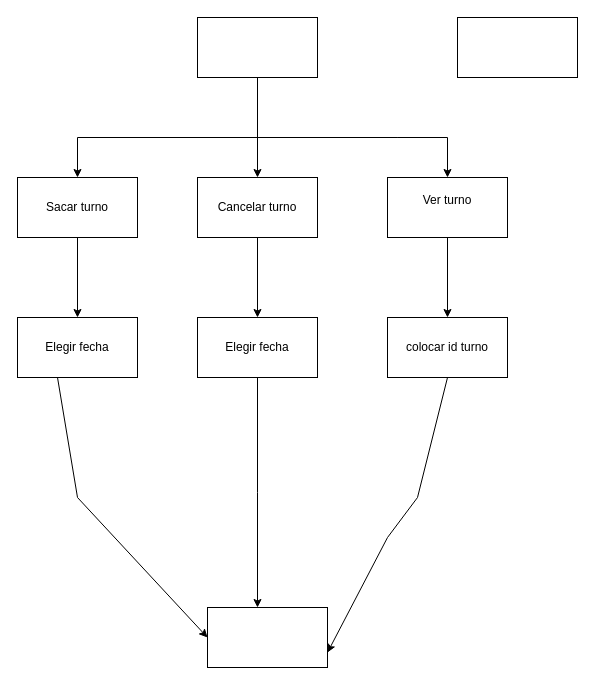
Image size: 595x685. Some labels were removed from this diagram. The box of each missing label's shape, as (x1, y1, x2, y2) in pixels:
Contactos: (456, 16, 578, 78)
home: (196, 16, 318, 78)
submit: (206, 606, 328, 668)
